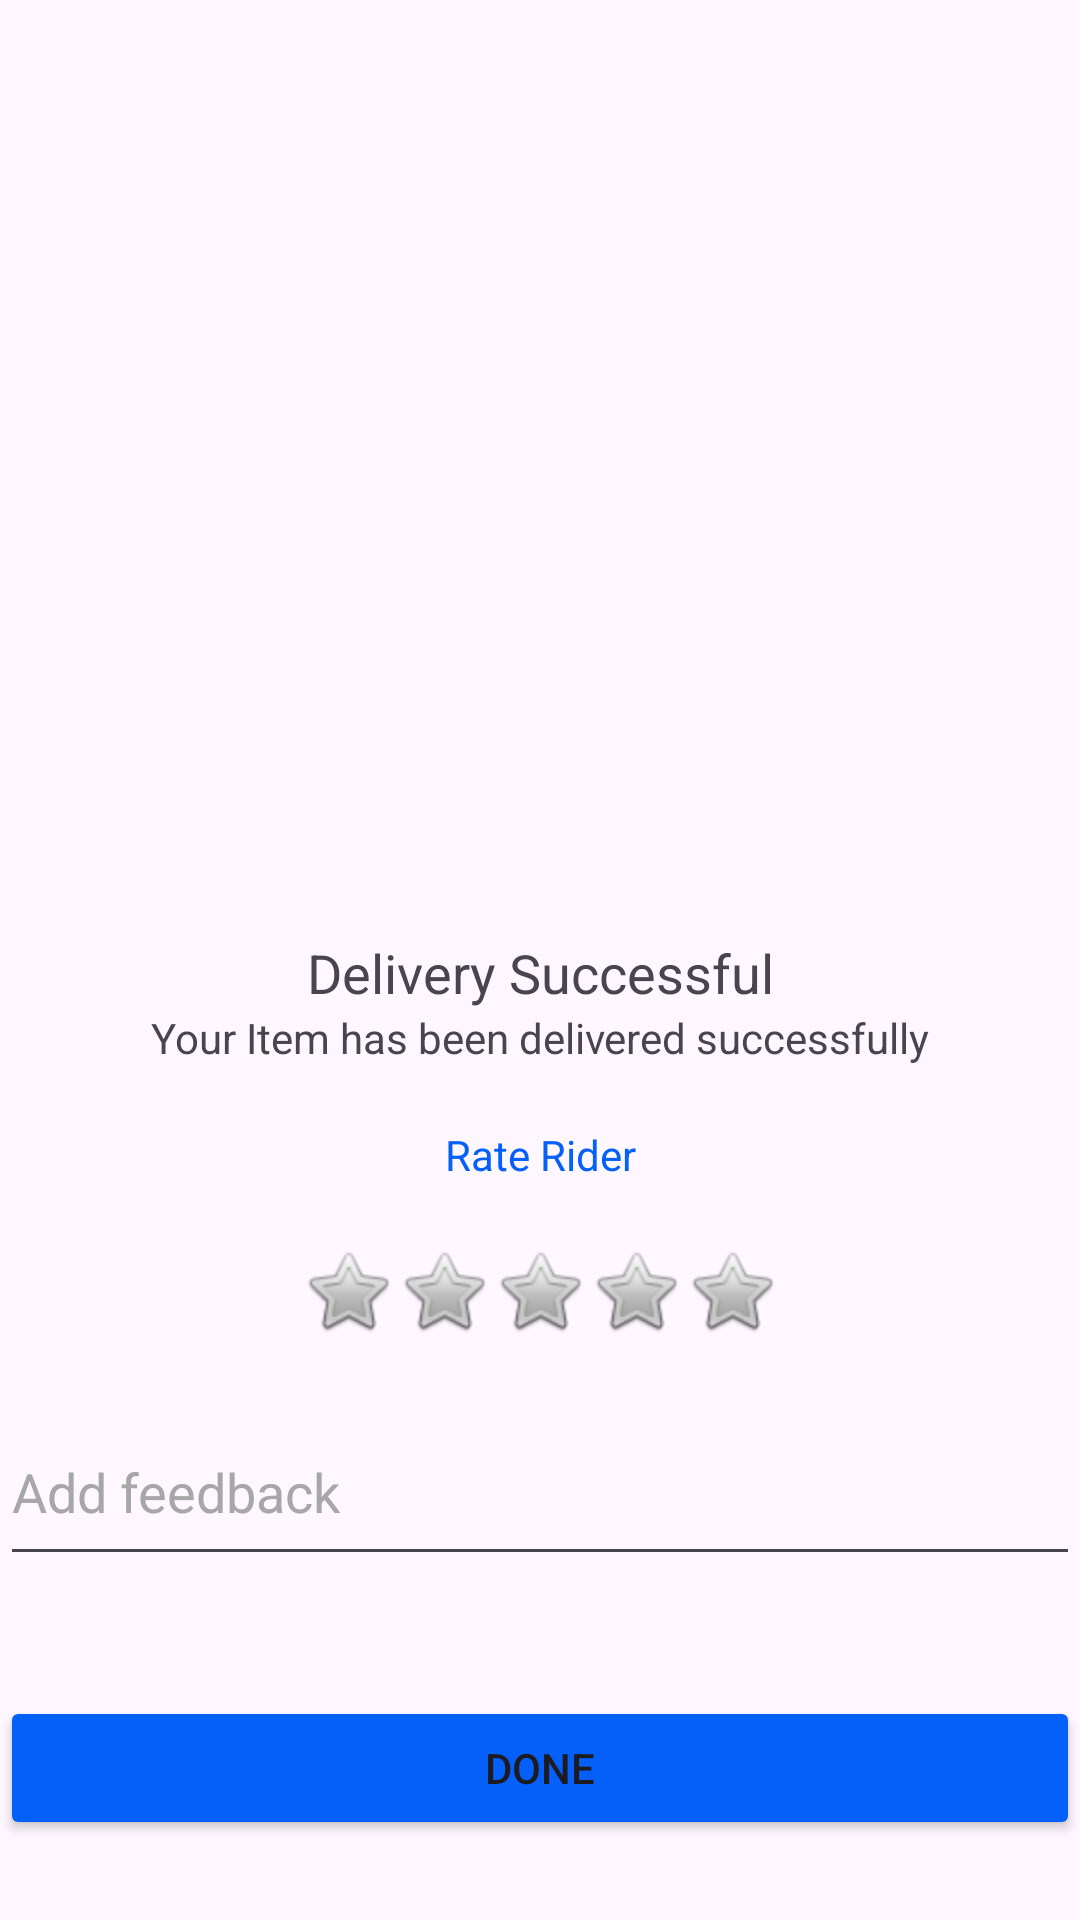

Point at icon controls on the screen. Image size 1080w x 1920h, points as point (x, y).
star off: point (349, 1292), point (445, 1292), point (541, 1292), point (637, 1292), point (733, 1292)
